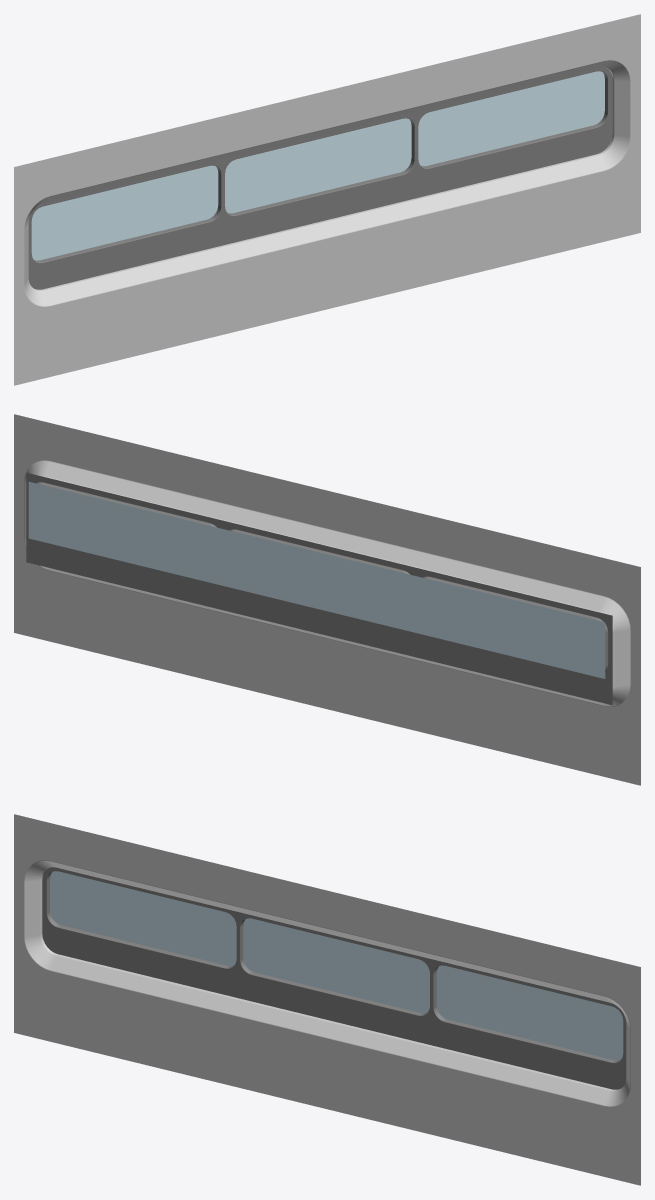
File: ApartmentExteriorWindowMedium12.fbx
The picture shows the model from 3 angles, top to bottom: view 1: azimuth 30°, elevation 25°; view 2: azimuth 150°, elevation 25°; view 3: azimuth 330°, elevation 25°; orthographic projection.
Visible parts, largest first — view 1: ApartmentExteriorWindowMedium12; view 2: ApartmentExteriorWindowMedium12; view 3: ApartmentExteriorWindowMedium12.
Part boxes in pixels (bbox=[...]): ApartmentExteriorWindowMedium12: bbox=[14, 14, 640, 385]; ApartmentExteriorWindowMedium12: bbox=[14, 414, 640, 785]; ApartmentExteriorWindowMedium12: bbox=[14, 814, 640, 1185].
Bounding box in the file's own units: 1200 × 400 × 35.
